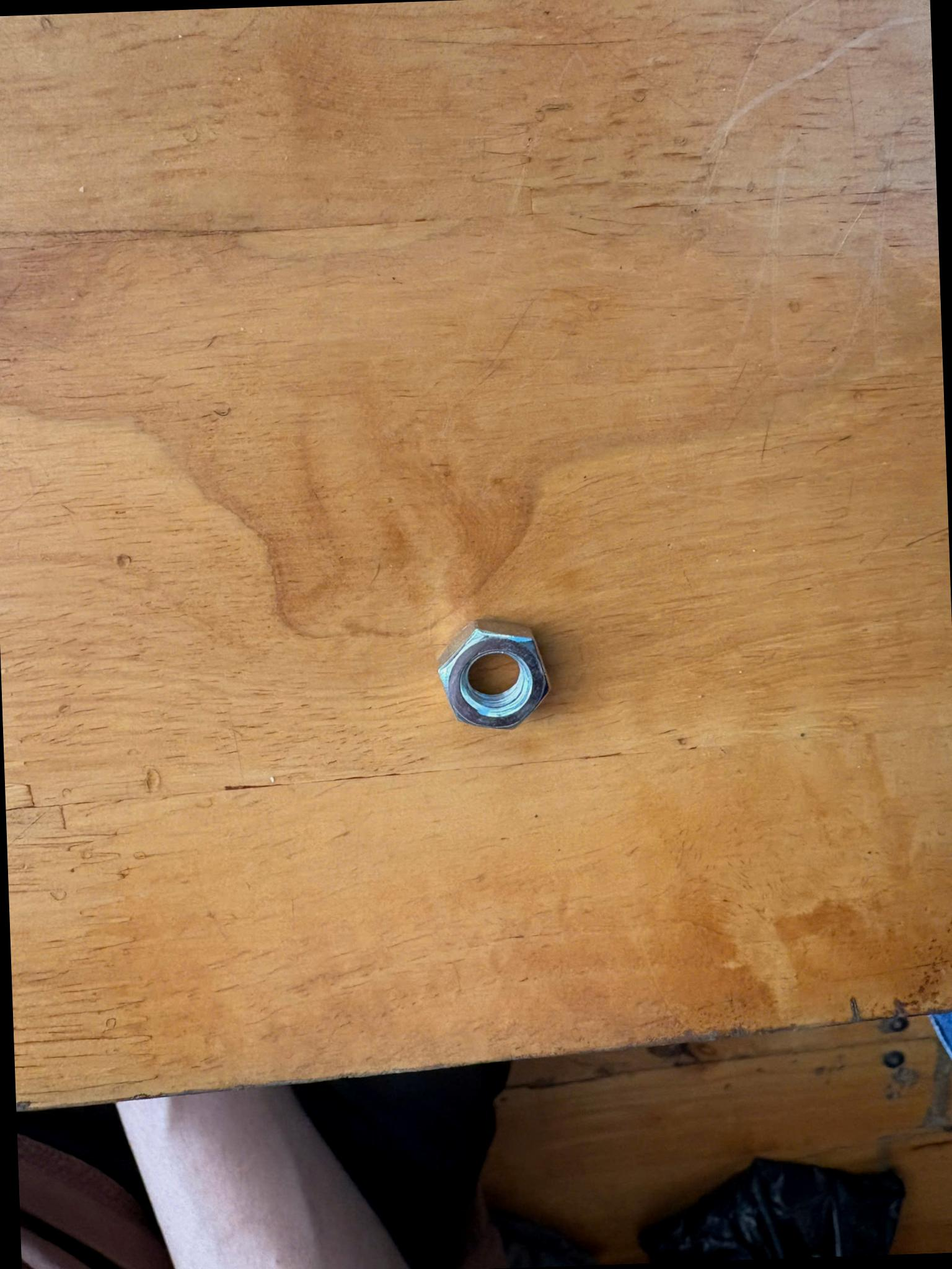nut: (424, 617, 566, 749)
